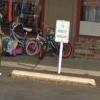Bicycle: (8, 21, 70, 63)
